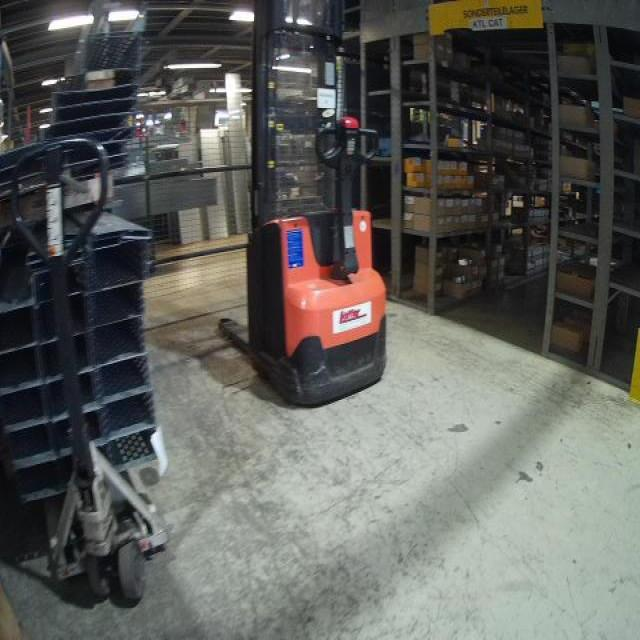pallet_truck: (7, 123, 167, 614), (208, 2, 393, 413)
